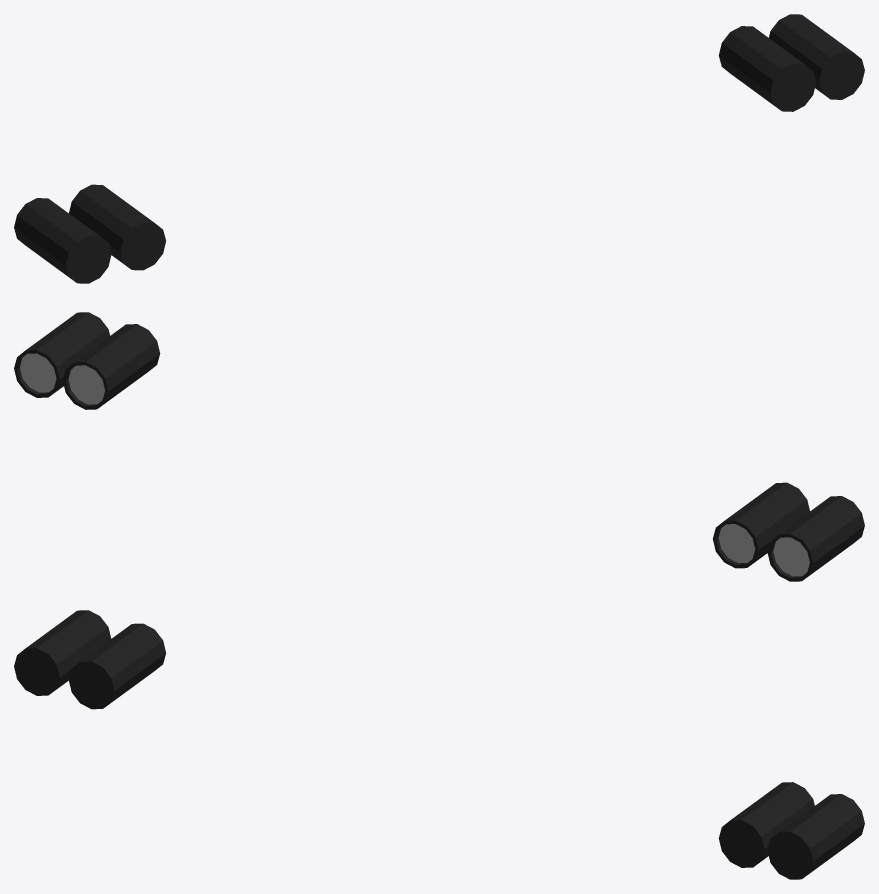
The model's file is exhaust5.glb.
3 views of the same model, one above another, from view 1: azimuth 30°, elevation 25°; view 2: azimuth 150°, elevation 25°; view 3: azimuth 330°, elevation 25° (orthographic).
Visible parts, largest first — view 1: exhaust5; view 2: exhaust5; view 3: exhaust5.
Part boxes in pixels (bbox=[...]): exhaust5: bbox=[14, 14, 864, 283]; exhaust5: bbox=[14, 312, 864, 581]; exhaust5: bbox=[14, 610, 864, 879].
Bounding box in the file's own units: 2.79 × 0.16 × 0.313.
1 material, 1 textured.
